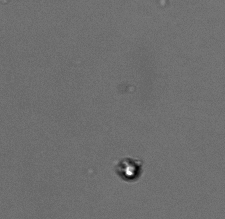Living Cell: (118, 159, 141, 181)
